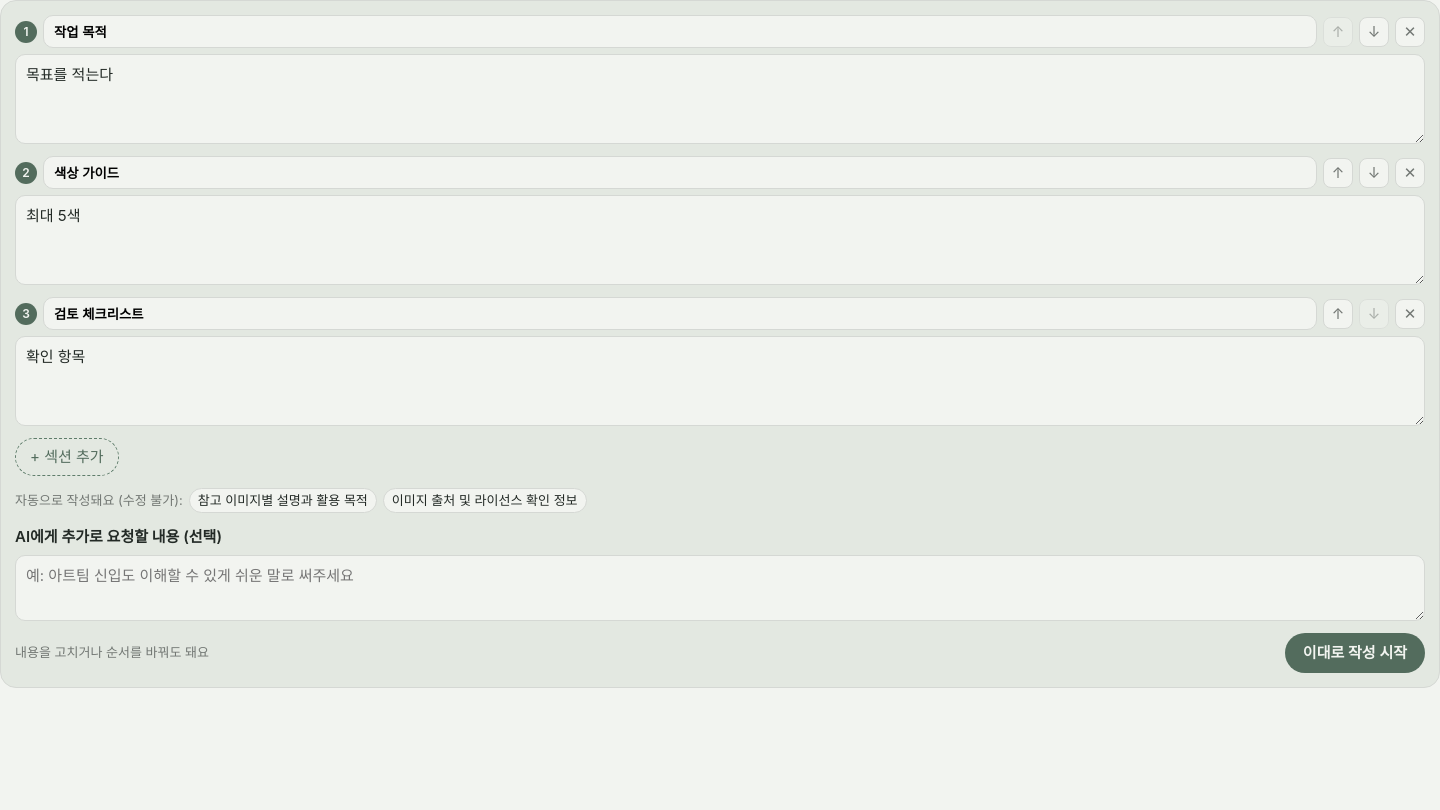
Test case: BriefPlanConfirm › 제목이 겹치거나 자동 작성 섹션과 같으면 보낼 수 없다
Replace the text in the field named "2번 섹션 제목" with "작업 목적". click: (680, 172)
box: [43,156,1317,189]
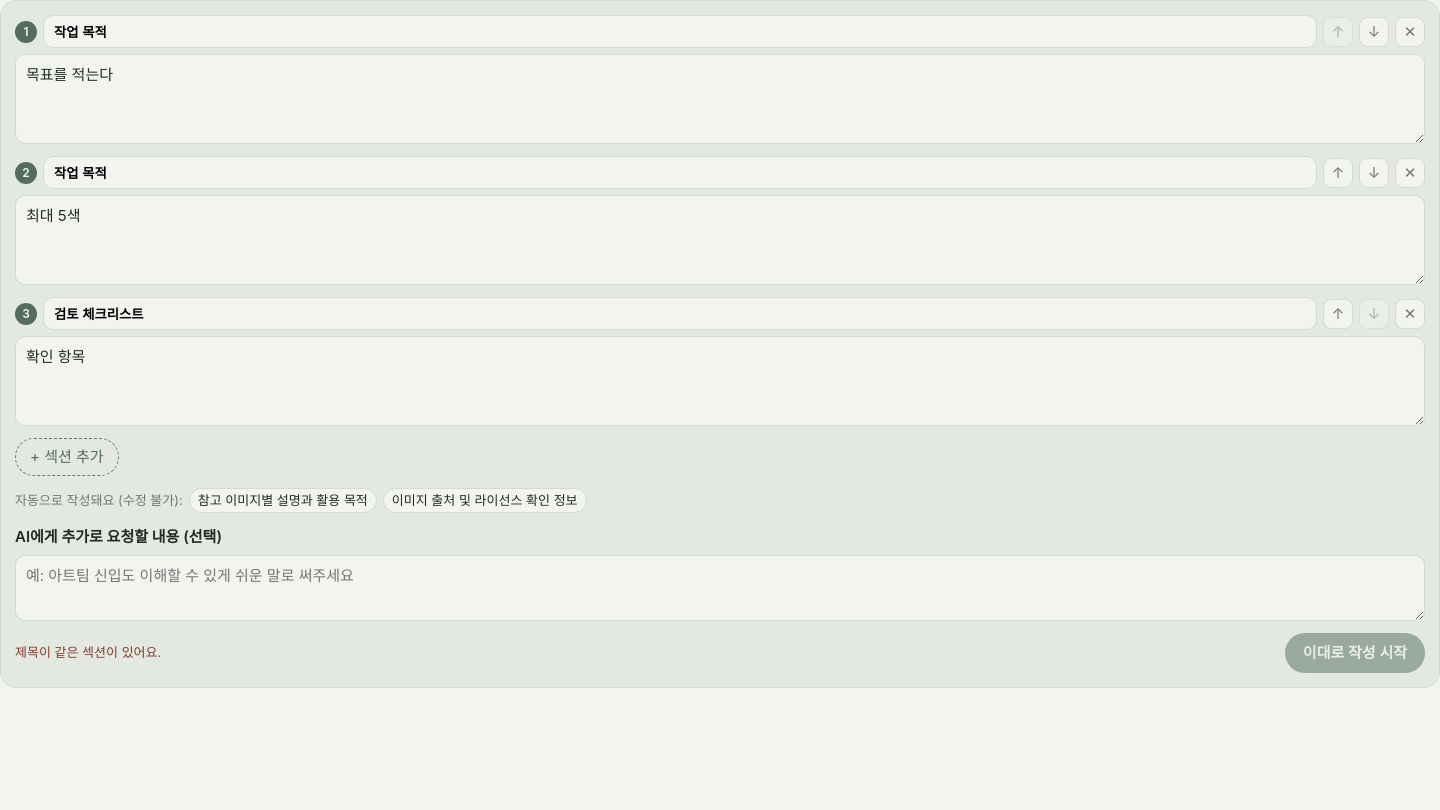
Check: the button with class "submit" is disabled, box [1285,633,1425,673]
Check: the text with class "note" shows "제목이 같은", box [15,644,161,660]
Replace the text in the field named "2번 섹션 제목" with "이미지 출처 및 라이선스 확인 정보". click: (680, 172)
box: [43,156,1317,189]
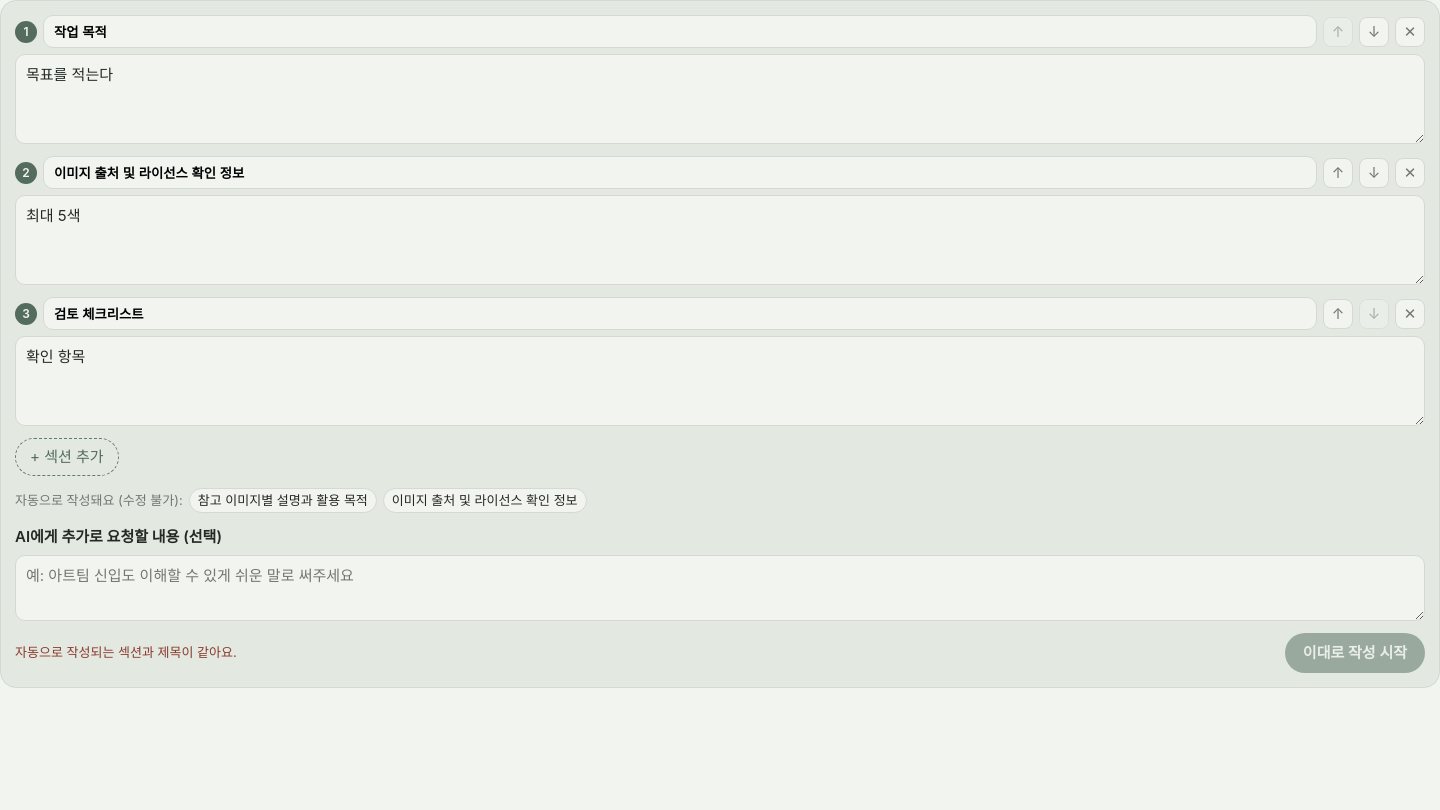
Check: the button with class "submit" is disabled, box [1285,633,1425,673]
Check: the text with class "note" shows "자동으로 작성되는", box [15,644,237,660]
